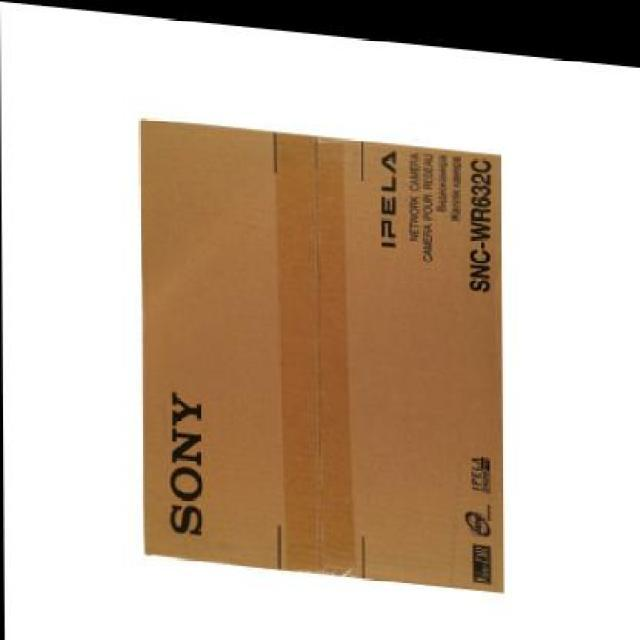box: (141, 117, 498, 580)
